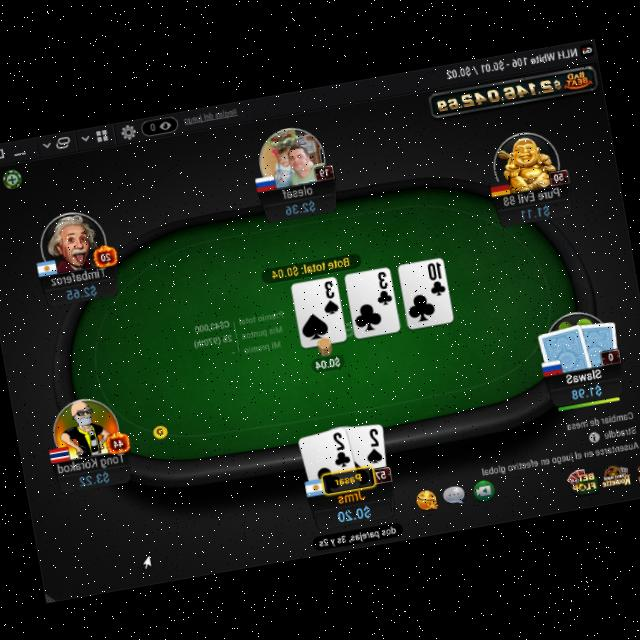2c: (326, 425, 353, 468)
2s: (358, 422, 384, 464)
3c: (371, 266, 394, 306)
3s: (318, 274, 340, 314)
Tc: (422, 256, 446, 296)
bet_text: (312, 351, 342, 370)
card_back: (534, 317, 592, 375), (573, 312, 622, 366)
dealer: (148, 418, 170, 438)
pot_text: (268, 252, 350, 278)
stack_text: (335, 498, 372, 520), (76, 465, 111, 486), (281, 194, 316, 214), (64, 278, 98, 298), (518, 198, 550, 218), (570, 379, 602, 398)
